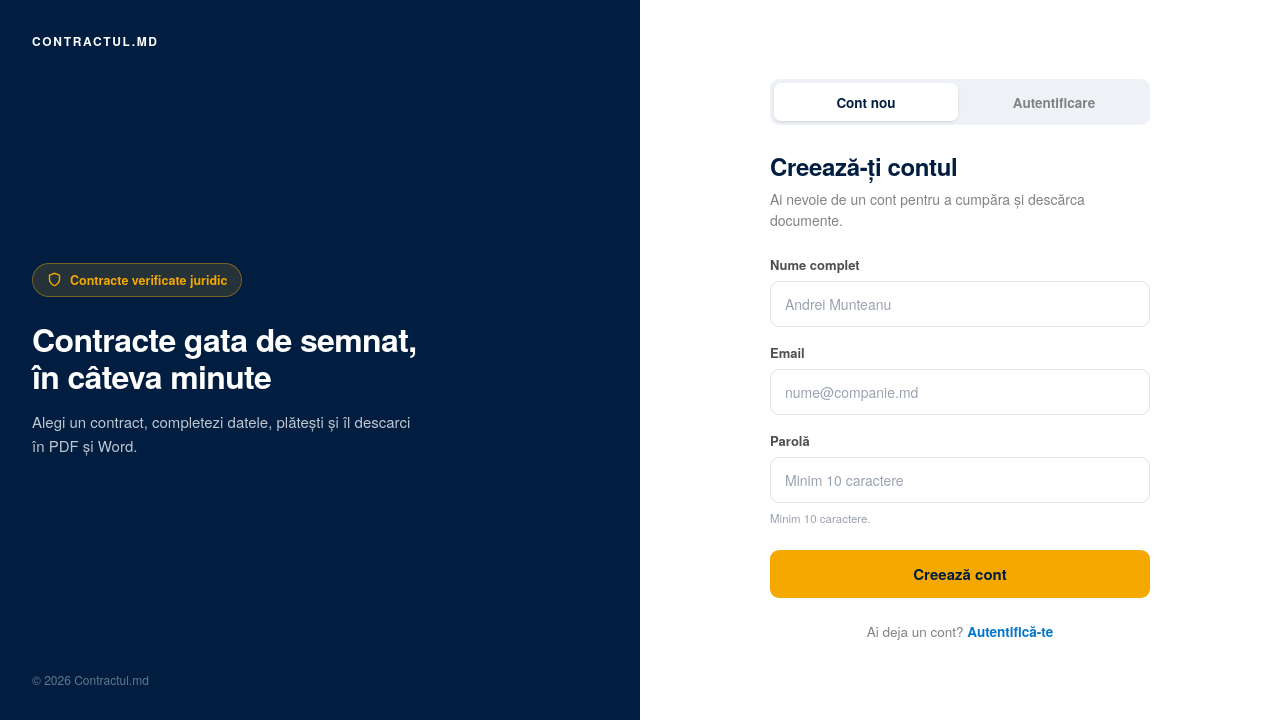
Test: AuthPage › clears the error when switching tabs
This screenshot has width=1280, height=720.
Step 1. Type "Ion Popescu" into the field labelled "Nume complet" → (960, 304), box x1=770 y1=281 x2=1150 y2=327
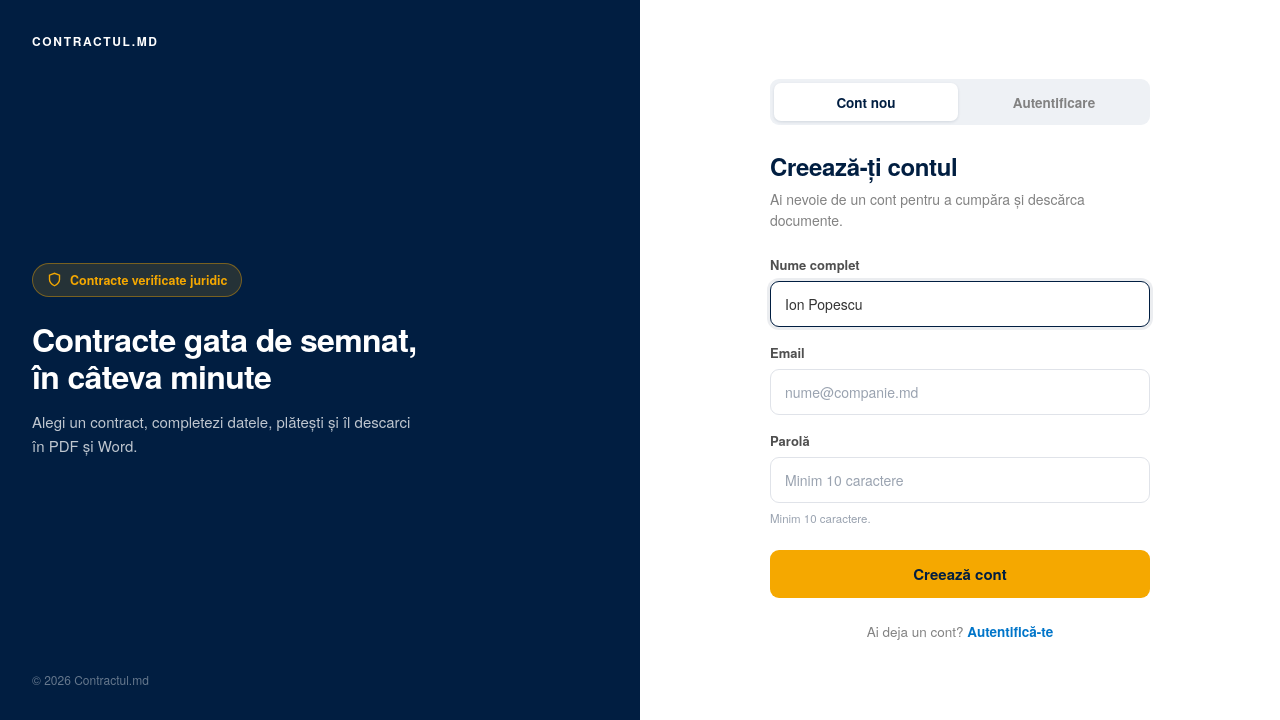
Step 2. Type "ion@nordconstruct.md" into the field labelled "Email" → (960, 392), box x1=770 y1=369 x2=1150 y2=415
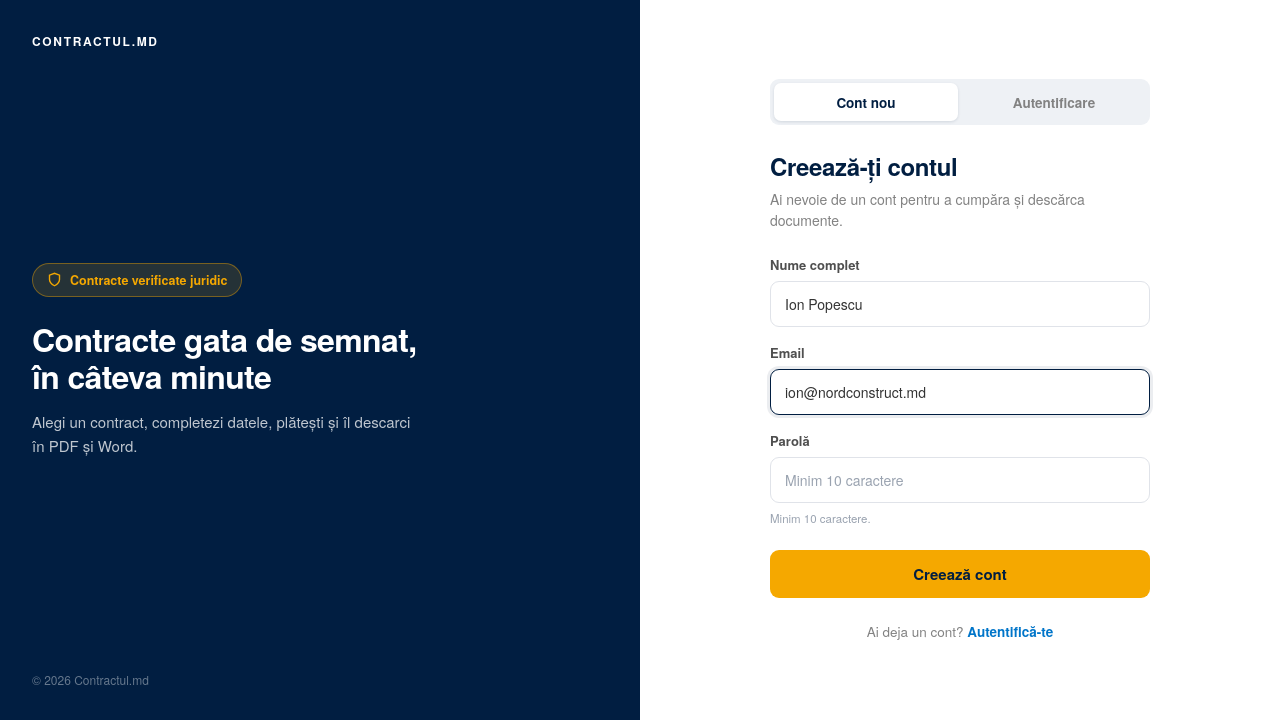
Step 3. Type "parola-mea-sigura-2026" into the password field labelled "Parolă" → (960, 480), box x1=770 y1=457 x2=1150 y2=503
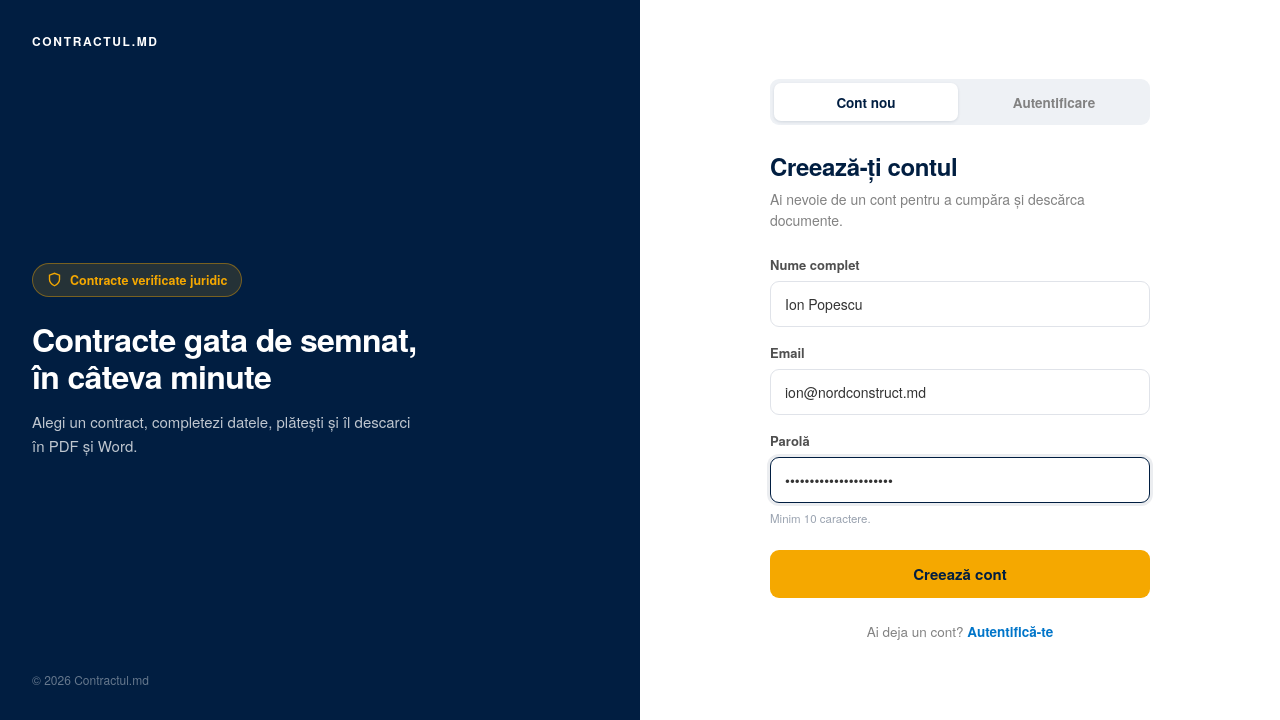
Step 4. Click the button "Creează cont" → (960, 574), box x1=770 y1=550 x2=1150 y2=598
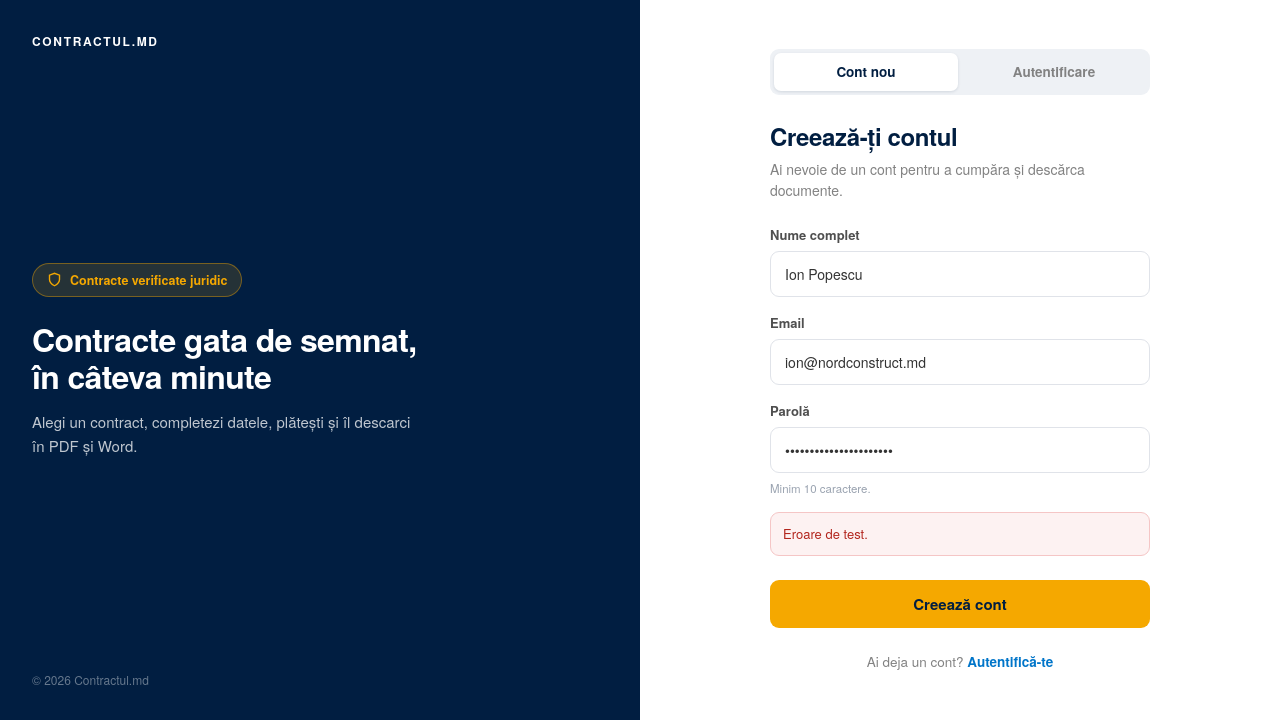
Now the message "Eroare de test." is shown, box x1=770 y1=512 x2=1150 y2=556
Step 5. Click the tab "Autentificare" → (1054, 72), box x1=962 y1=53 x2=1146 y2=91
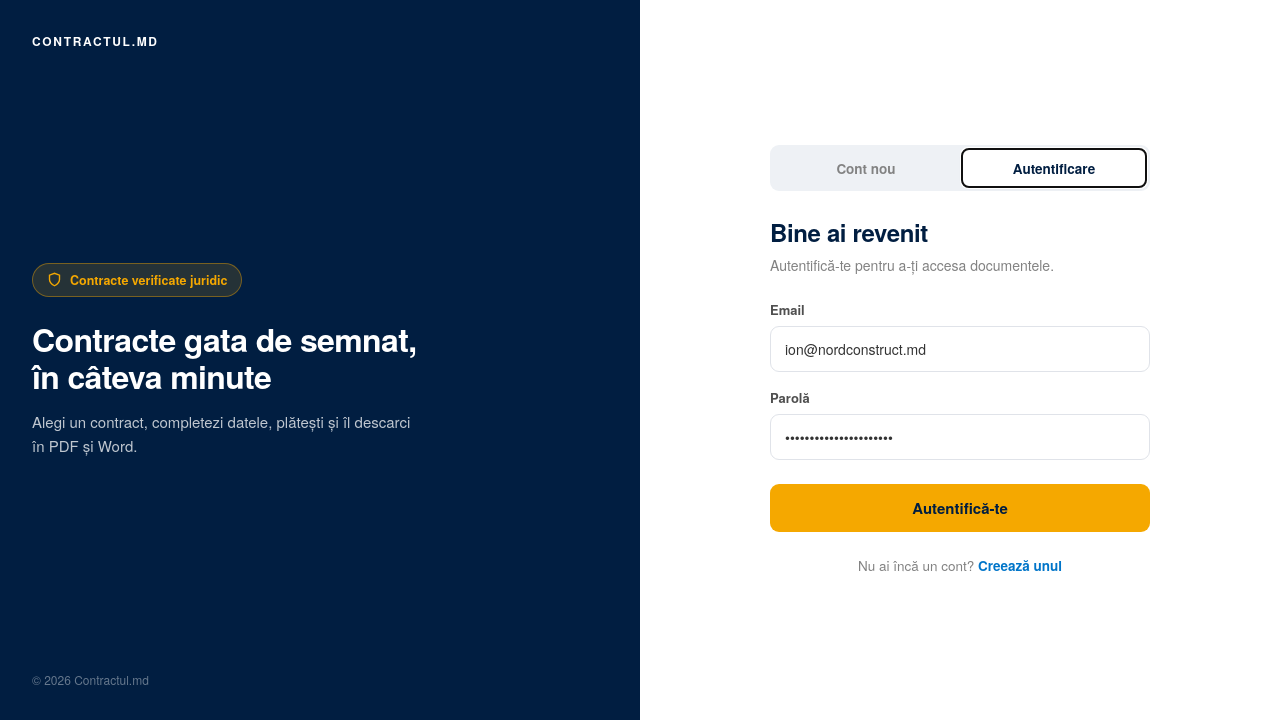
Now the message "Eroare de test." is gone
